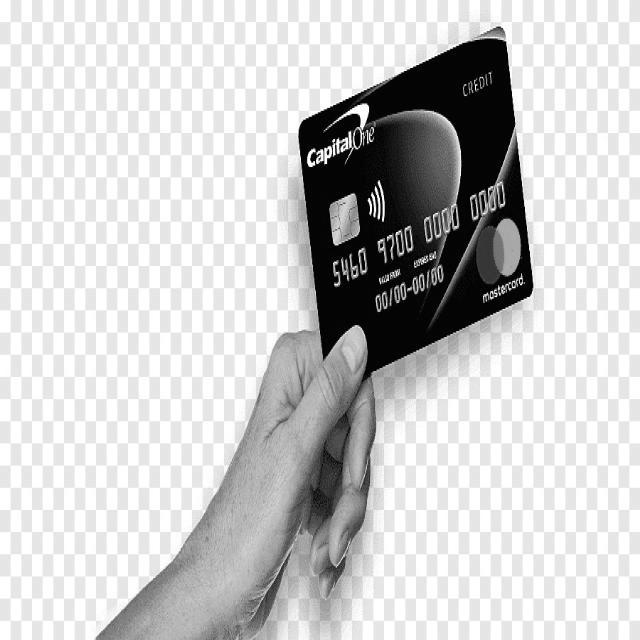card: (296, 24, 536, 382)
